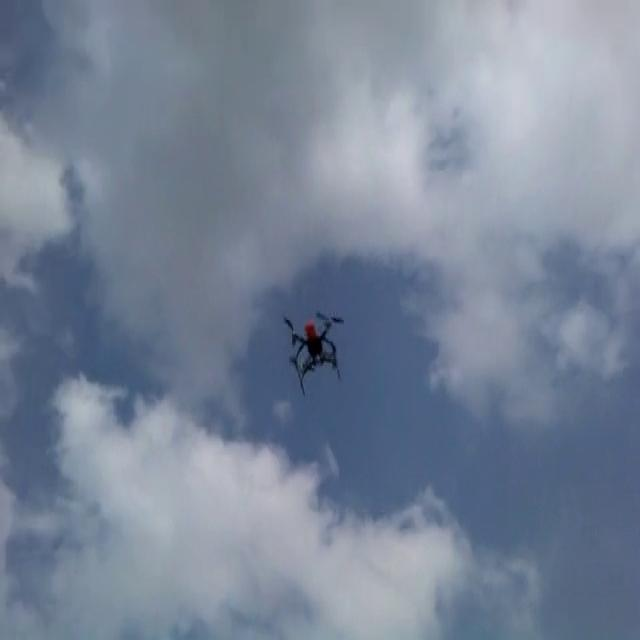drone: (283, 304, 347, 393)
